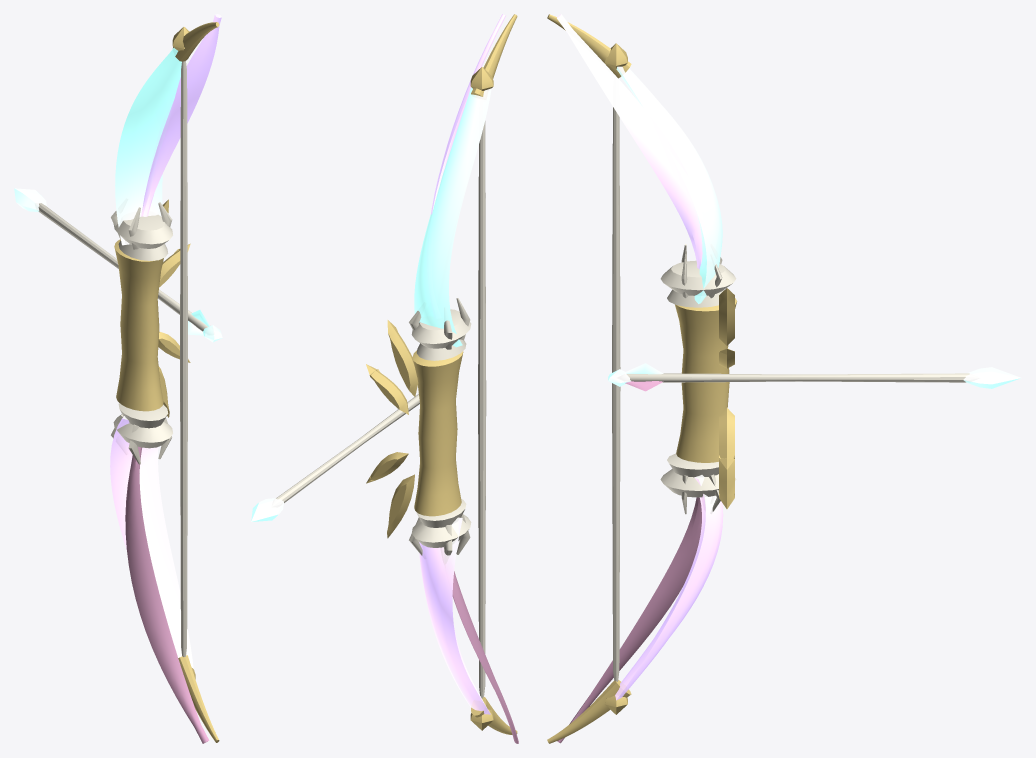
File: art_gild_aurora_skyhook.fbx
The picture shows the model from 3 angles, left to right: view 1: azimuth 30°, elevation 25°; view 2: azimuth 150°, elevation 25°; view 3: azimuth 270°, elevation 25°; orthographic projection.
Parts seen in each view (by area): view 1: Handle.002, AuroraRibbonUpper, AuroraRibbonLower, AuroraVeilLower, BowString, AuroraVeilUpper, ClaspUpper, ClaspLower, ArrowShaft, TipHornUpper, TipHornLower, ArrowHead; view 2: Handle.002, AuroraRibbonUpper, BowString, AuroraRibbonLower, ClaspUpper, ClaspLower, ArrowShaft, AuroraVeilLower, TipHornUpper, AuroraVeilUpper, TipHornLower, ArrowHead; view 3: Handle.002, AuroraVeilUpper, AuroraRibbonUpper, BowString, AuroraRibbonLower, AuroraVeilLower, ArrowShaft, ClaspUpper, ClaspLower, TipHornLower, TipHornUpper, ArrowHead.
Part boxes in pixels (x1=…): Handle.002: x1=114, y1=199, x2=190, y2=417; AuroraRibbonUpper: x1=115, y1=48, x2=181, y2=245; AuroraRibbonLower: x1=110, y1=416, x2=193, y2=668; AuroraVeilLower: x1=125, y1=446, x2=209, y2=743; BowString: x1=180, y1=61, x2=187, y2=656; AuroraVeilUpper: x1=141, y1=14, x2=221, y2=216; ClaspUpper: x1=111, y1=202, x2=172, y2=260; ClaspLower: x1=111, y1=403, x2=172, y2=464; ArrowShaft: x1=38, y1=203, x2=208, y2=331; TipHornUpper: x1=172, y1=22, x2=219, y2=61; TipHornLower: x1=178, y1=655, x2=219, y2=742; ArrowHead: x1=14, y1=188, x2=46, y2=211; Handle.002: x1=366, y1=320, x2=463, y2=538; AuroraRibbonUpper: x1=414, y1=87, x2=491, y2=347; BowString: x1=478, y1=121, x2=486, y2=698; AuroraRibbonLower: x1=419, y1=517, x2=490, y2=714; ClaspUpper: x1=409, y1=298, x2=471, y2=360; ClaspLower: x1=409, y1=499, x2=471, y2=555; ArrowShaft: x1=276, y1=394, x2=419, y2=502; AuroraVeilLower: x1=452, y1=571, x2=518, y2=743; TipHornUpper: x1=470, y1=14, x2=517, y2=96; AuroraVeilUpper: x1=431, y1=14, x2=505, y2=214; TipHornLower: x1=470, y1=697, x2=517, y2=734; ArrowHead: x1=251, y1=498, x2=283, y2=521; Handle.002: x1=675, y1=288, x2=736, y2=508; AuroraVeilUpper: x1=557, y1=14, x2=702, y2=269; AuroraRibbonUpper: x1=616, y1=66, x2=722, y2=303; BowString: x1=612, y1=107, x2=620, y2=681; AuroraRibbonLower: x1=615, y1=475, x2=723, y2=700; AuroraVeilLower: x1=557, y1=497, x2=701, y2=743; ArrowShaft: x1=626, y1=373, x2=969, y2=382; ClaspUpper: x1=660, y1=244, x2=736, y2=307; ClaspLower: x1=660, y1=453, x2=736, y2=514; TipHornLower: x1=547, y1=680, x2=631, y2=743; TipHornUpper: x1=547, y1=14, x2=631, y2=78; ArrowHead: x1=963, y1=367, x2=1020, y2=388.
Size of the model in its own units: 0.5746 by 4.54 by 2.66.
